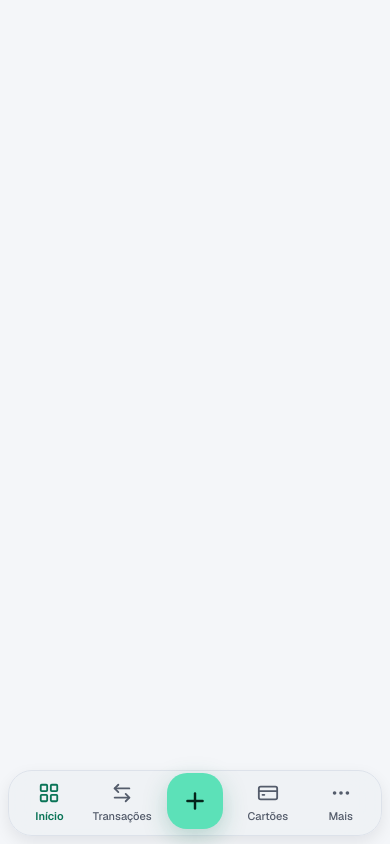
it: BottomNav › shows admin items in "Mais" when the user has the permissions
Click the button "Mais". click: [341, 803]
box: [304,777,377,829]
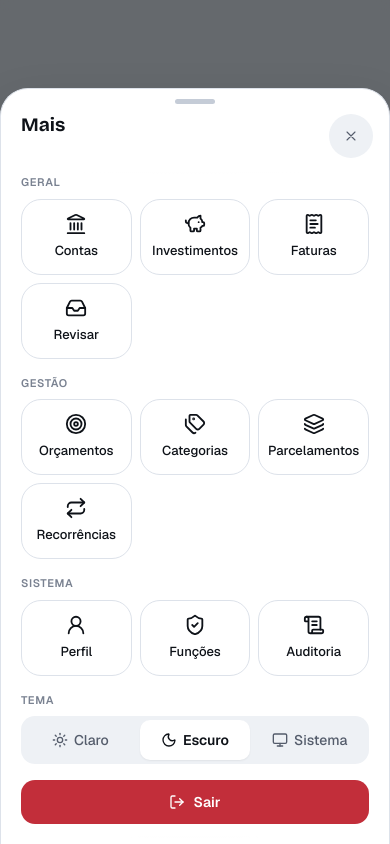
expect the link "Auditoria" is shown: met, box [258,600,369,676]
expect the link "Funções" is shown: met, box [140,600,250,676]
